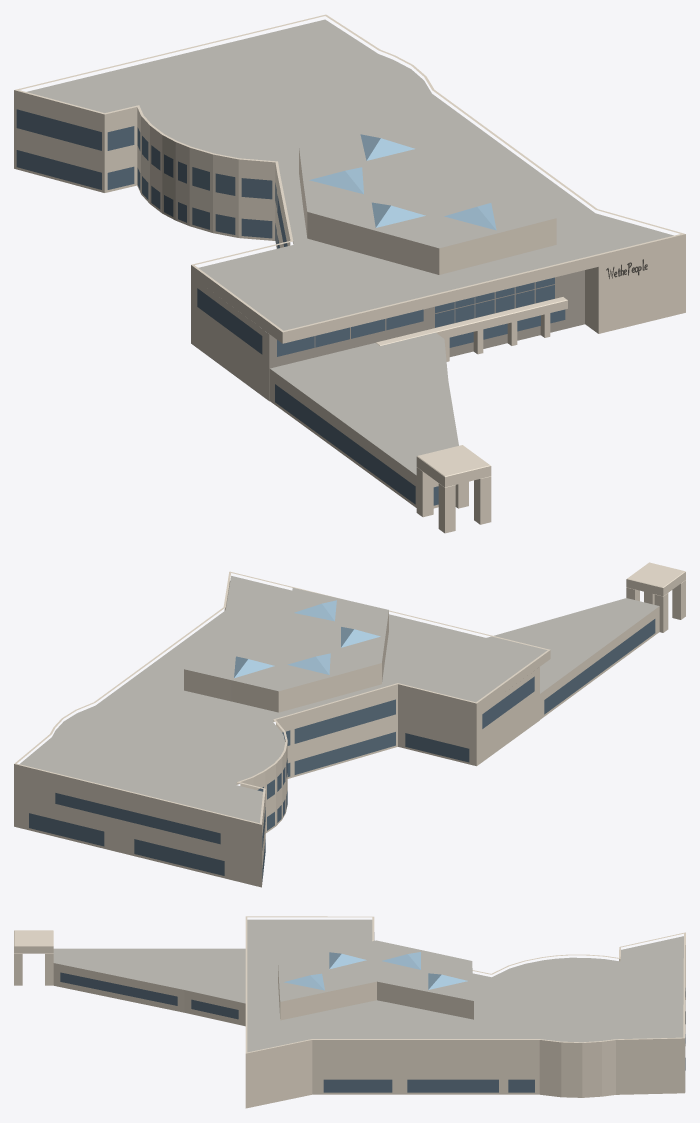
File: phl-national-constitution-center.glb
3 views of the same model, one above another, from view 1: azimuth 30°, elevation 25°; view 2: azimuth 150°, elevation 25°; view 3: azimuth 270°, elevation 25° (orthographic). The views are drawn at different scales.
Parts seen in each view (by area): view 1: National Constitution Center; view 2: National Constitution Center; view 3: National Constitution Center.
Part boxes in pixels (<box>): National Constitution Center: <box>14,14,685,533</box>; National Constitution Center: <box>14,562,685,887</box>; National Constitution Center: <box>14,916,685,1108</box>.
Bounding box in the file's own units: 86.1 × 22.6 × 176.
